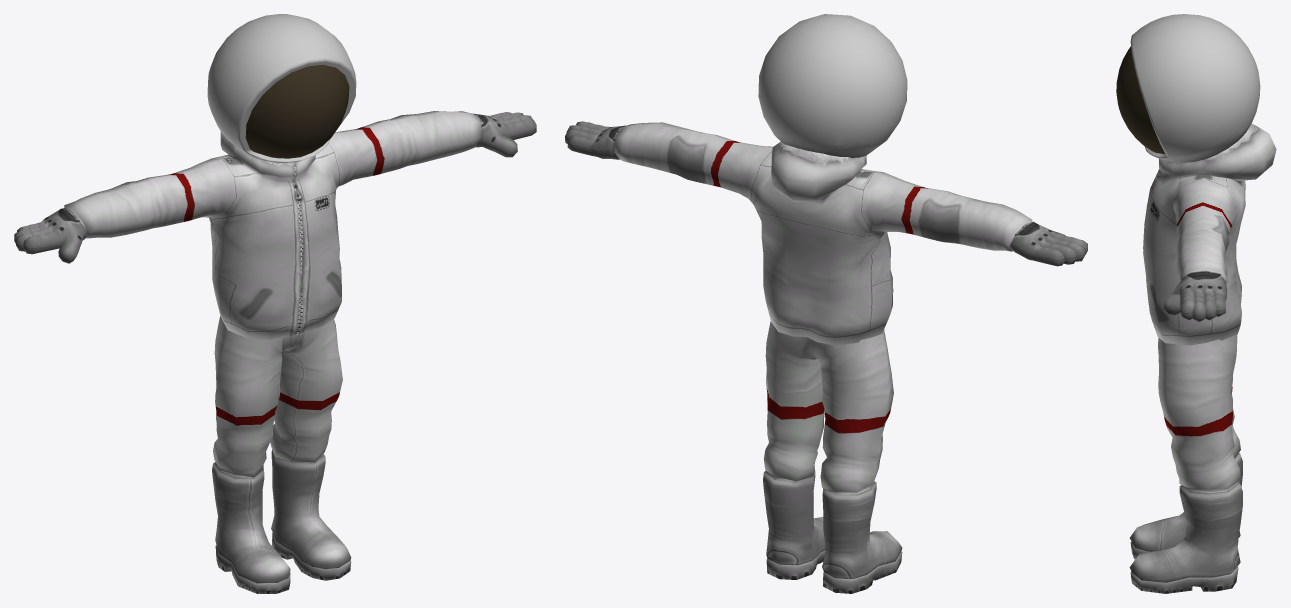
The model's file is woojoo.fbx.
The picture shows the model from 3 angles, left to right: view 1: azimuth 30°, elevation 25°; view 2: azimuth 150°, elevation 25°; view 3: azimuth 270°, elevation 25°; orthographic projection.
Parts seen in each view (by area): view 1: node_id134, node_id132, node_id136; view 2: node_id134, node_id132, node_id136; view 3: node_id132, node_id134, node_id136.
Boxes of the visible parts, x1,y1,x2,y2 form: node_id134: (14, 111, 536, 339); node_id132: (212, 316, 351, 593); node_id136: (207, 14, 356, 163); node_id134: (565, 121, 1087, 345); node_id132: (763, 321, 902, 593); node_id136: (758, 14, 907, 157); node_id132: (1129, 334, 1242, 593); node_id134: (1143, 123, 1276, 345); node_id136: (1116, 14, 1260, 162).
Bounding box in the file's own units: 0.5061 × 0.512 × 0.135.
3 materials, 3 textured.
